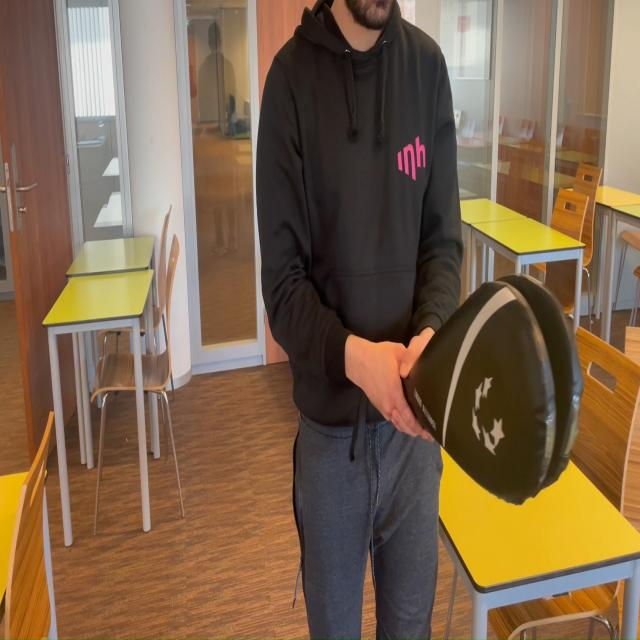paddle: (426, 278, 577, 489)
